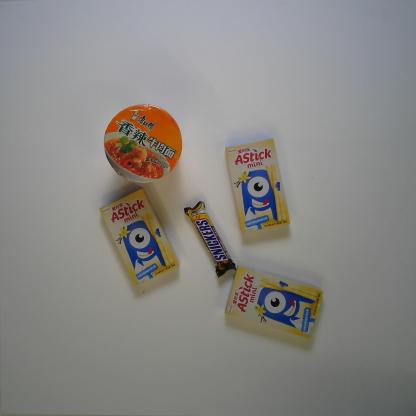Chocolate: (184, 201, 236, 277)
Dessert: (99, 189, 179, 287), (224, 266, 324, 338), (225, 137, 290, 233)
Instant Noodles: (103, 104, 182, 184)
